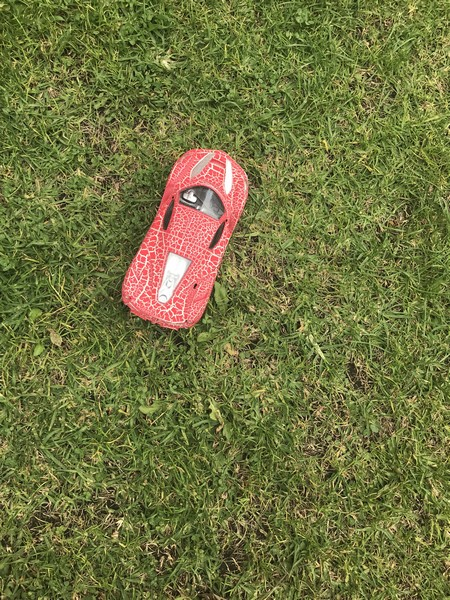RC: (119, 139, 251, 333)
